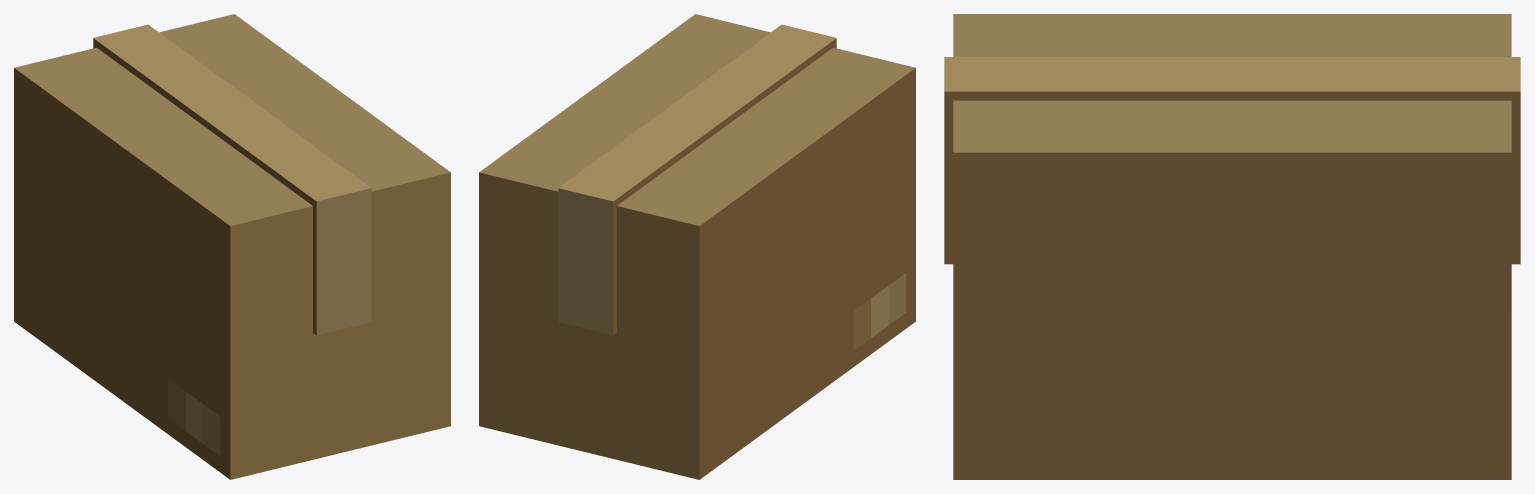
The model's file is KardusStage3.fbx.
3 views of the same model, side by side, from view 1: azimuth 30°, elevation 25°; view 2: azimuth 150°, elevation 25°; view 3: azimuth 270°, elevation 25° (orthographic). The views are drawn at different scales.
Visible parts, largest first — view 1: Kardus panda.001; view 2: Kardus panda.001; view 3: Kardus panda.001.
Boxes of the visible parts, bbox=[...] form: Kardus panda.001: bbox=[14, 14, 450, 479]; Kardus panda.001: bbox=[479, 14, 915, 479]; Kardus panda.001: bbox=[944, 14, 1520, 479].
Size of the model in its own units: 100 by 113 by 176.
